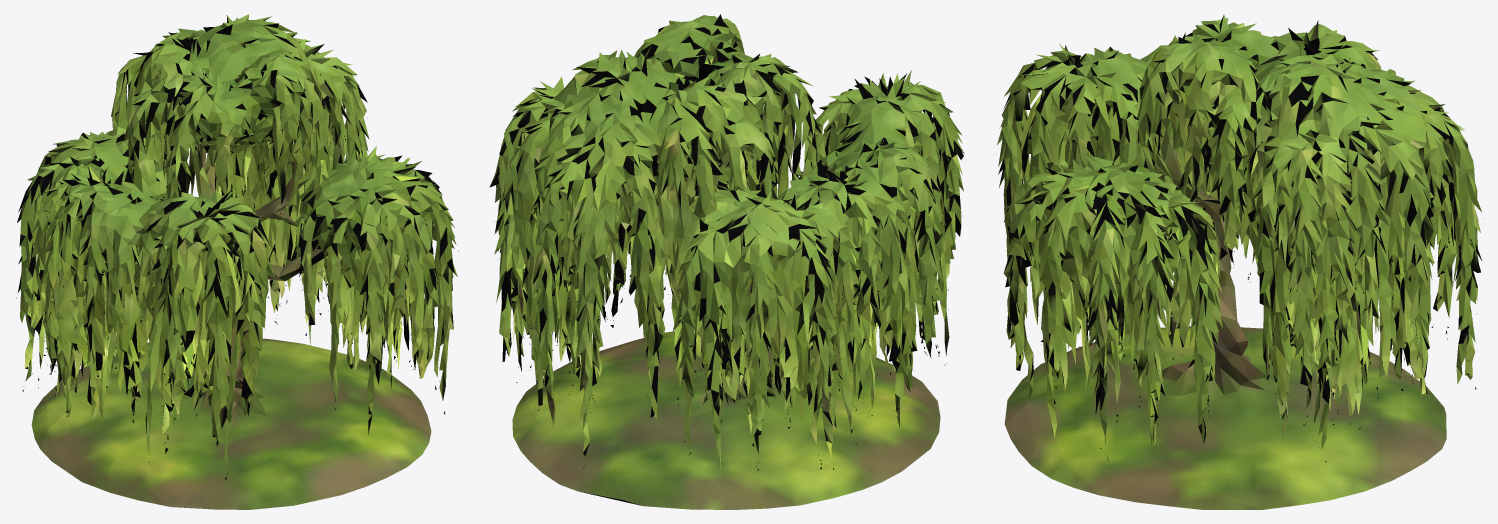
Rendered from Luminous_Weeping_Will.fbx.
3 renders of one model, left to right at view 1: azimuth 30°, elevation 25°; view 2: azimuth 150°, elevation 25°; view 3: azimuth 270°, elevation 25°, orthographic. The views are drawn at different scales.
Visible parts, largest first — view 1: Luminous_Weeping_Will_LOD0; view 2: Luminous_Weeping_Will_LOD0; view 3: Luminous_Weeping_Will_LOD0.
Part boxes in pixels (x1,y1,x2,y2): Luminous_Weeping_Will_LOD0: (16, 14, 458, 509); Luminous_Weeping_Will_LOD0: (489, 14, 964, 509); Luminous_Weeping_Will_LOD0: (997, 14, 1483, 509).
Size of what is drawn, in the model's own units: 1.78 by 1.69 by 1.88.
1 material, 1 textured.
